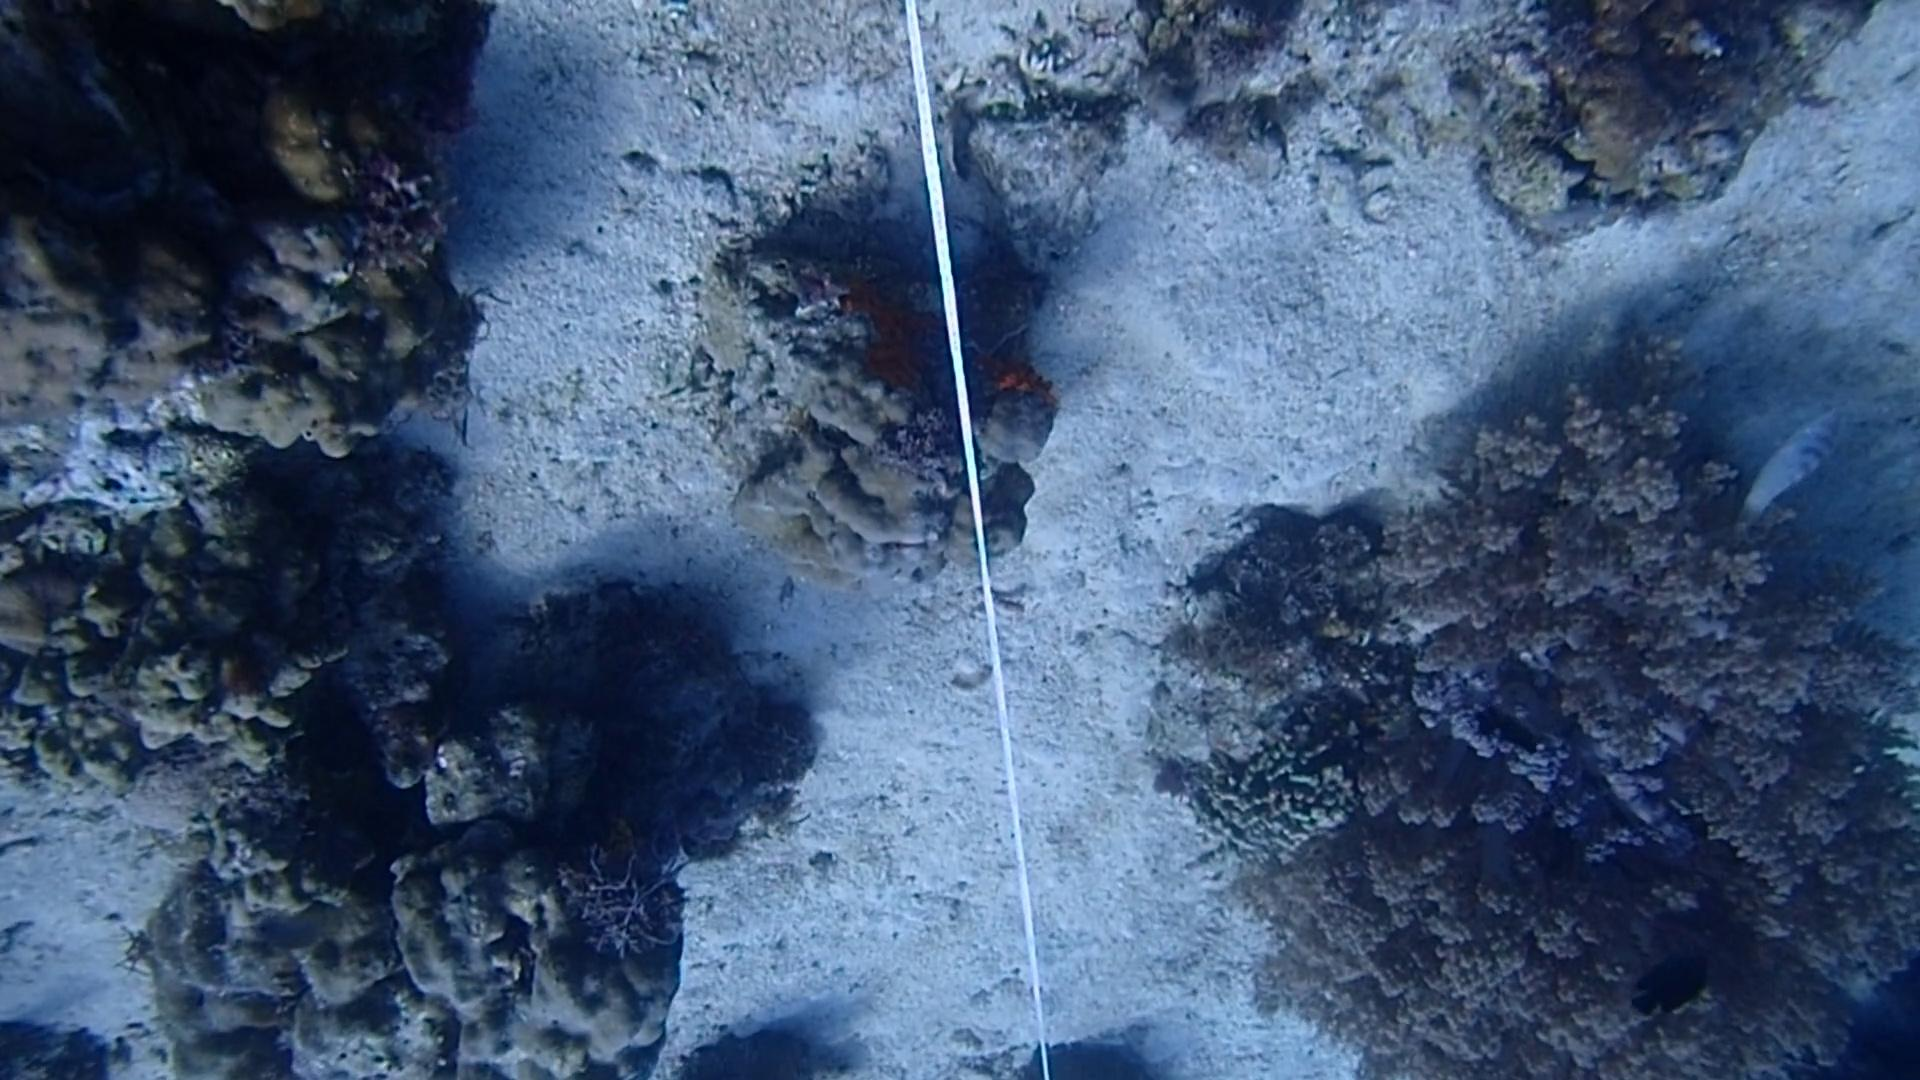Dark Fish: (1625, 951, 1717, 1033), (1470, 708, 1544, 757)
Light Fish w Back Stripes: (1735, 396, 1851, 534)
